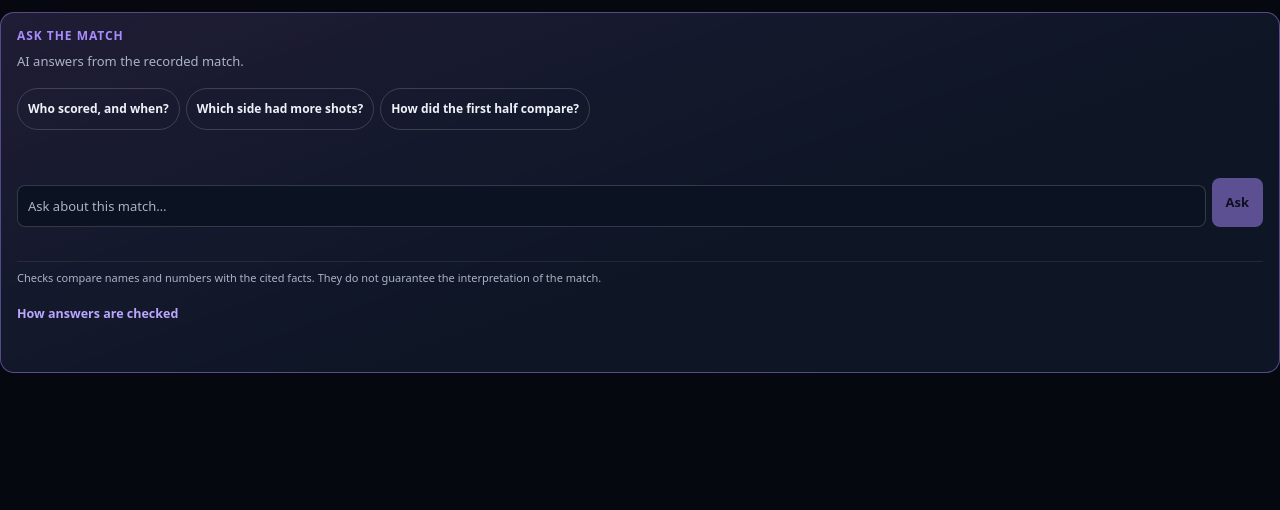
Scenario: folds evidence and cost without hiding the answer, its check or the interpretation limit
Click the button "Who scored, and when?" at (98, 108), box [17,88,180,130]
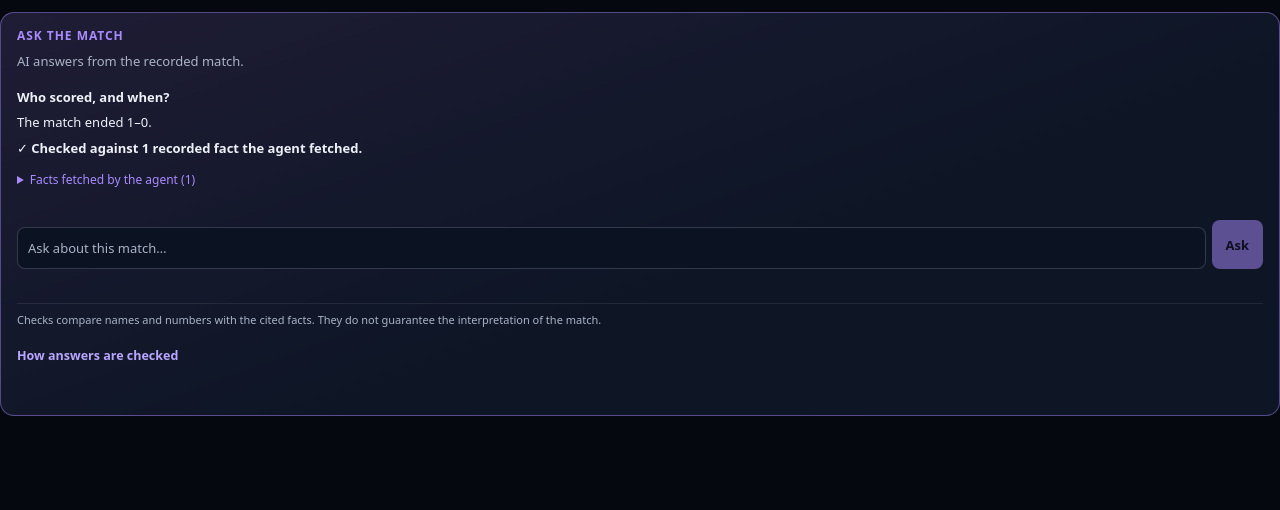
Check: the text "The match ended 1–0." is shown, box [17,113,152,131]
Check: the text "✓ Checked against 1 recorded fact the agent fetched." is shown, box [17,138,362,156]
Check: the text "0.000517 USD" is shown
Click the heading "Facts fetched by the agent (1)" at (112, 180), box [30,171,195,188]
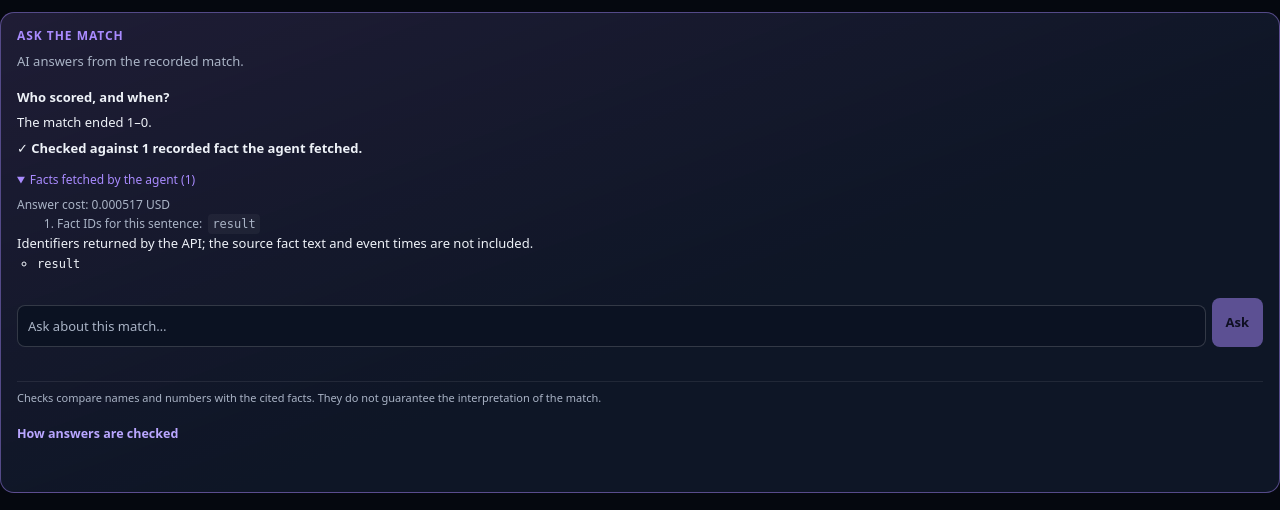
Check: the text "Answer cost: 0.000517 USD" is shown, box [17,196,170,213]
Check: the text "result" next to "Fact IDs for this sentence" is shown, box [212,217,256,231]
